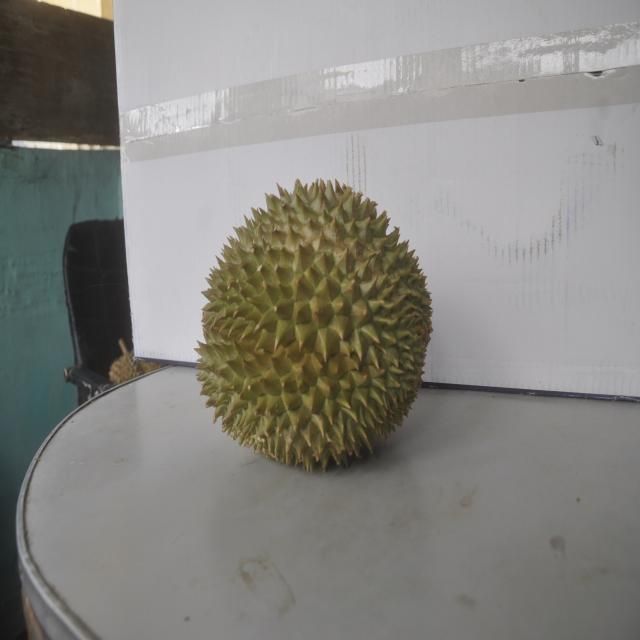mature: (196, 174, 431, 476)
